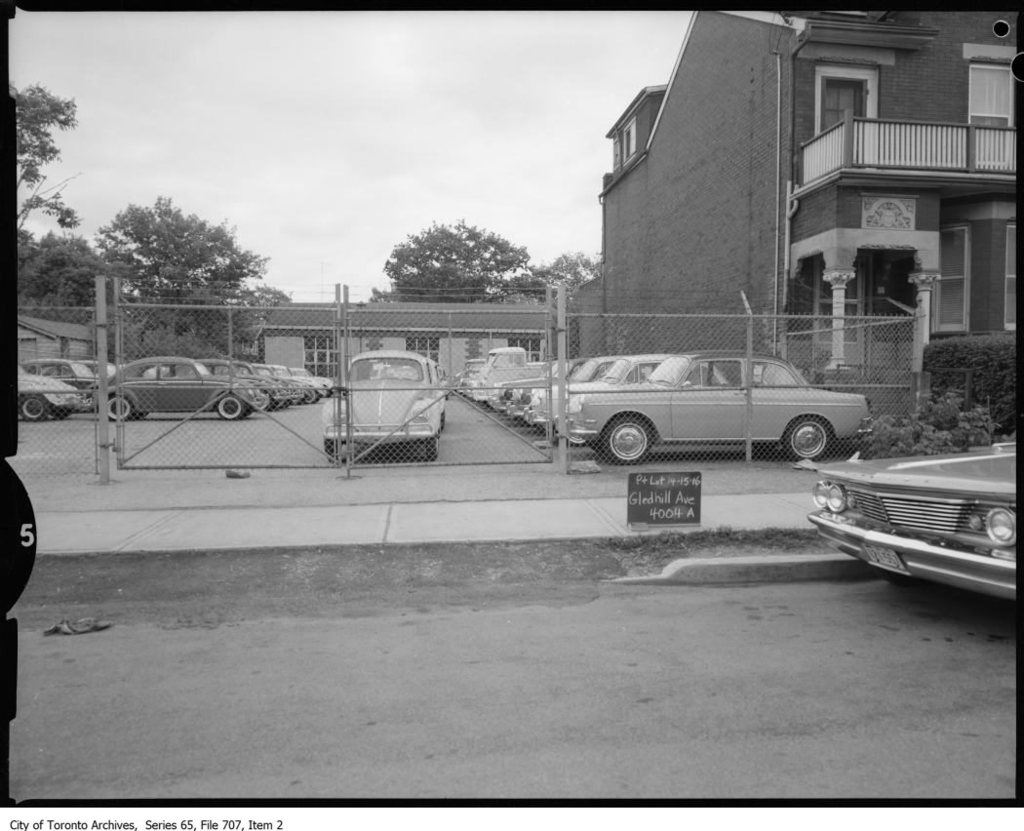Car: (486, 347, 882, 468), (795, 436, 1016, 623), (92, 347, 340, 421), (316, 344, 450, 466), (9, 355, 87, 421)
